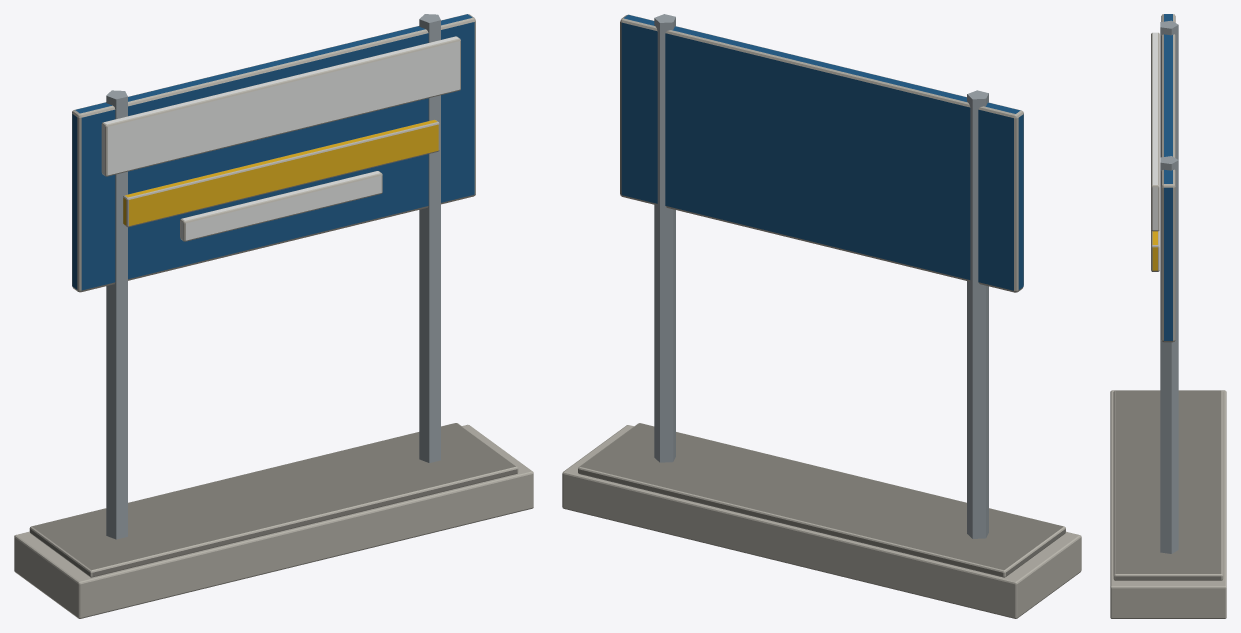
The model's file is prp_sign.glb.
3 renders of one model, left to right at view 1: azimuth 30°, elevation 25°; view 2: azimuth 150°, elevation 25°; view 3: azimuth 270°, elevation 25°, orthographic. The views are drawn at different scales.
Visible parts, largest first — view 1: prp_sign; view 2: prp_sign; view 3: prp_sign.
Boxes of the visible parts, bbox=[...] form: prp_sign: bbox=[14, 14, 533, 618]; prp_sign: bbox=[562, 14, 1081, 618]; prp_sign: bbox=[1110, 14, 1226, 618].
Size of the model in its own units: 3.2 by 3.25 by 0.8.
